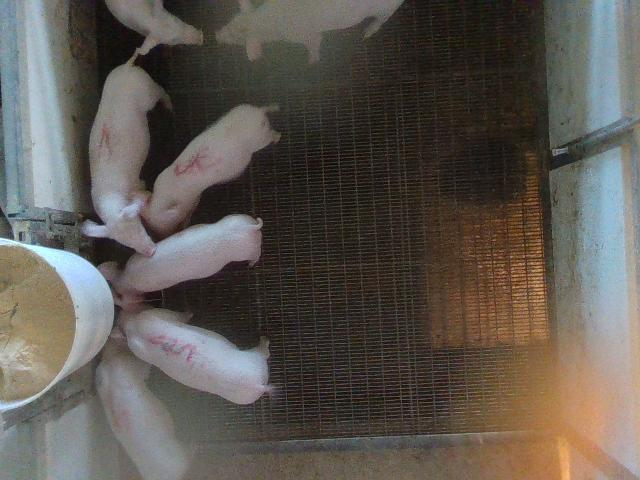pig-1: (81, 55, 171, 256)
pig-3: (115, 302, 270, 404)
pig-4: (95, 330, 189, 479)
pig-5: (120, 106, 280, 237)
